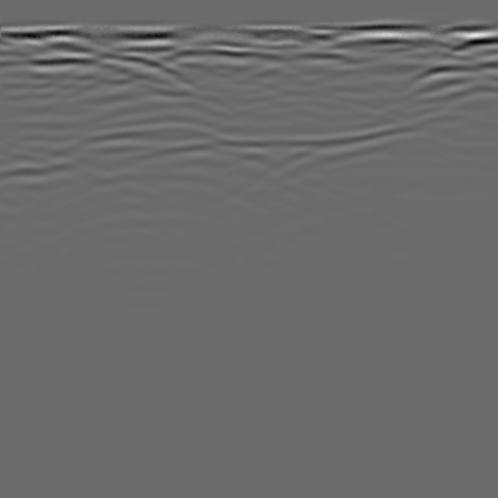hyperbola: (32, 104, 288, 208)
